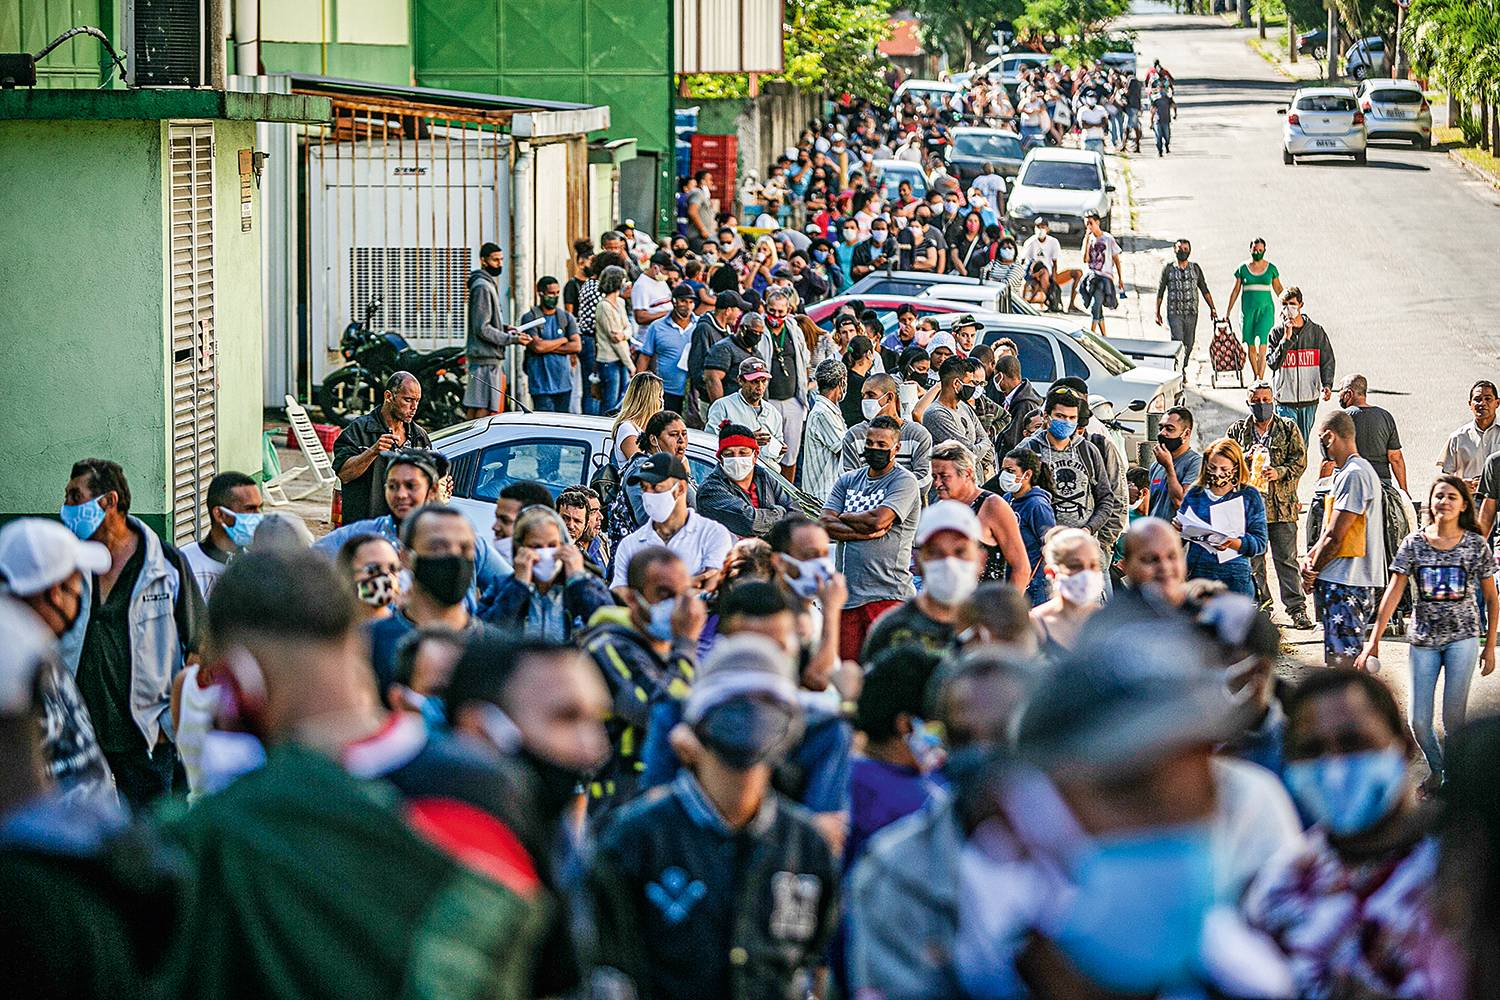mask_weared_incorrect: (379, 471, 442, 525), (646, 423, 691, 464), (951, 325, 978, 353), (479, 250, 505, 277)
with_mask: (1283, 699, 1423, 824), (398, 524, 481, 607), (912, 528, 991, 612), (1037, 529, 1113, 611), (625, 560, 696, 638), (336, 540, 403, 616), (56, 476, 123, 543), (214, 478, 270, 552), (513, 526, 572, 580), (637, 476, 683, 523), (862, 428, 901, 474), (721, 440, 760, 484), (997, 458, 1039, 498), (855, 381, 893, 422), (1045, 404, 1080, 443), (1202, 455, 1237, 491)
without_mask: (927, 449, 976, 501), (385, 377, 423, 421), (557, 501, 587, 544), (580, 491, 605, 540), (1432, 485, 1464, 521), (1466, 384, 1498, 421), (741, 374, 771, 402)
